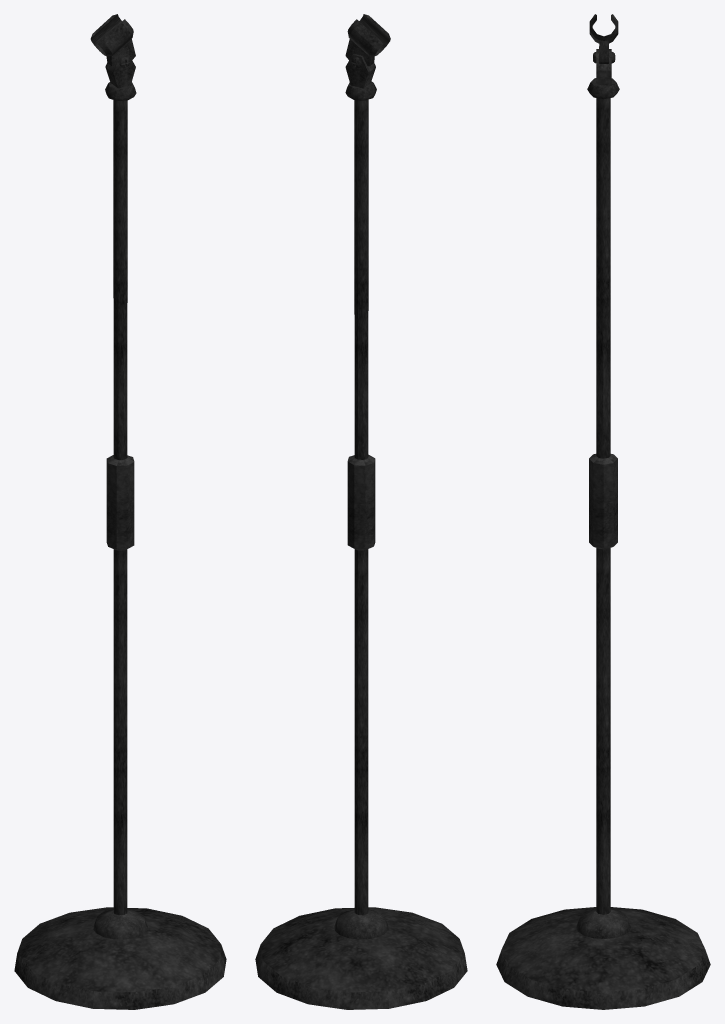
Rendered from mic_stand_texture_for_both_characters.glb.
The picture shows the model from 3 angles, left to right: view 1: azimuth 30°, elevation 25°; view 2: azimuth 150°, elevation 25°; view 3: azimuth 270°, elevation 25°; orthographic projection.
Parts seen in each view (by area): view 1: g; view 2: g; view 3: g.
Part boxes in pixels (x1,y1,x2,y2): g: (14,14,226,1009); g: (255,14,467,1009); g: (496,14,710,1009).
Bounding box in the file's own units: 0.4091 × 2 × 0.4091.
1 material, 1 textured.
